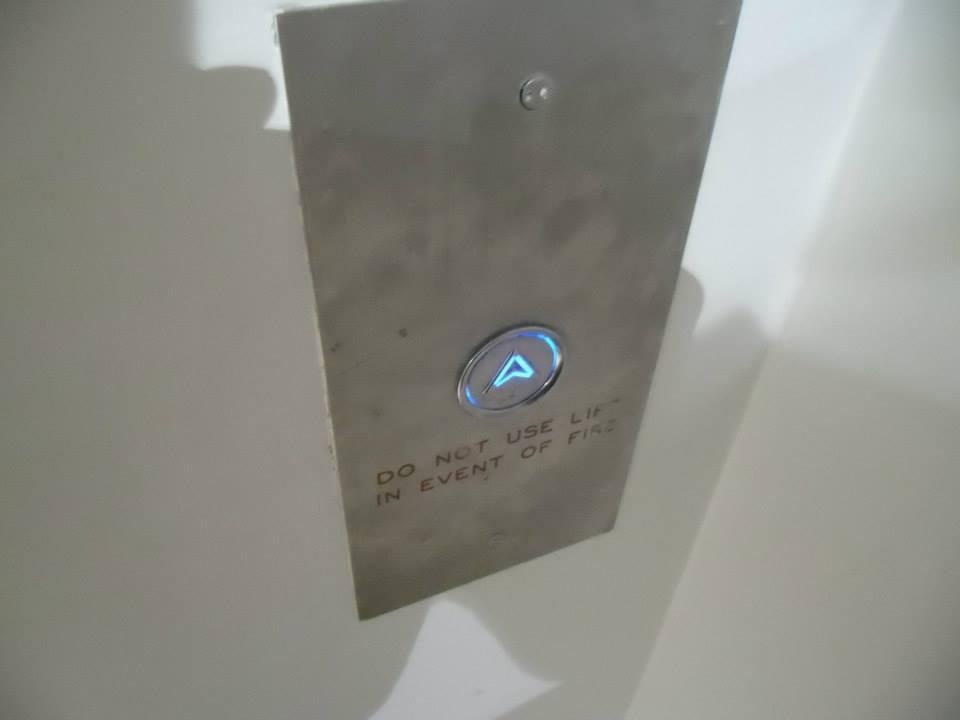up: (454, 322, 566, 416)
